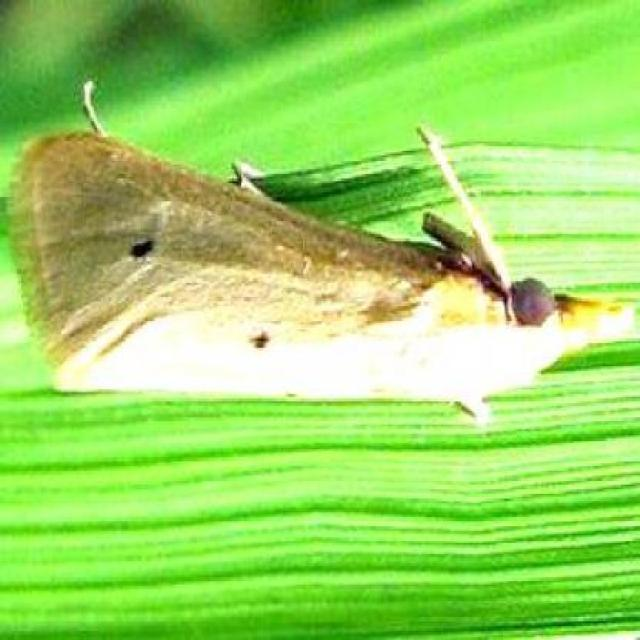stem-borer: (4, 122, 640, 413)
